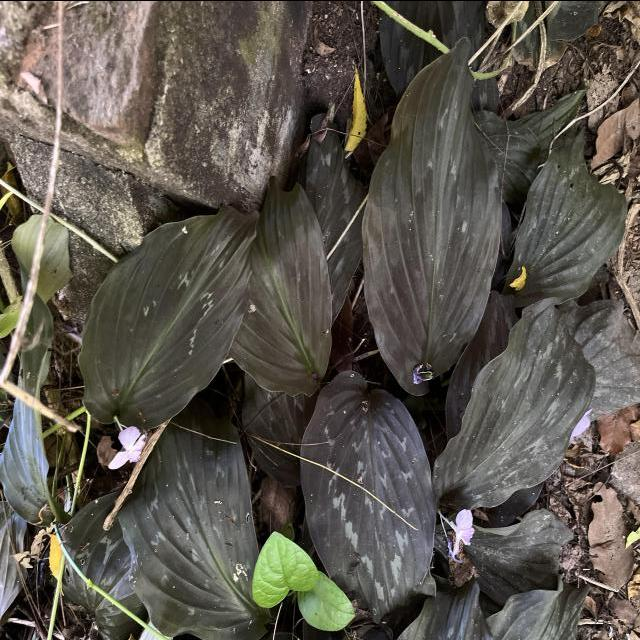Kaempferia galanga linn: (358, 32, 506, 398), (75, 201, 263, 433), (110, 389, 274, 640), (428, 294, 600, 515), (297, 366, 438, 628), (219, 174, 333, 398)
